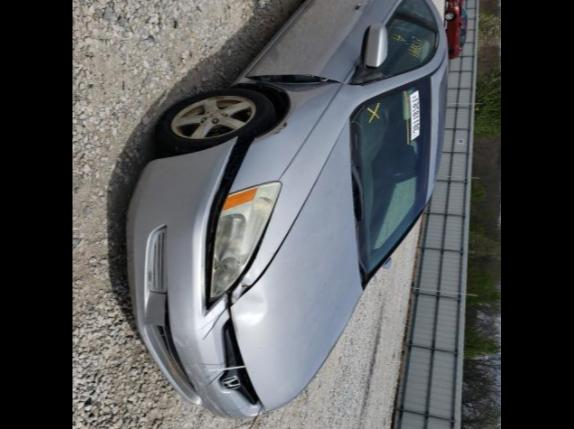Broken part: (234, 126, 344, 304), (202, 138, 268, 414), (144, 290, 200, 394), (224, 196, 276, 296), (242, 72, 344, 84)
Corrosion: (166, 354, 186, 386)
Dent: (232, 60, 340, 96), (230, 278, 268, 326), (232, 274, 250, 302)
Paint chip: (272, 120, 288, 134)
Scratch: (186, 362, 228, 418), (200, 302, 226, 338), (172, 334, 192, 350)
